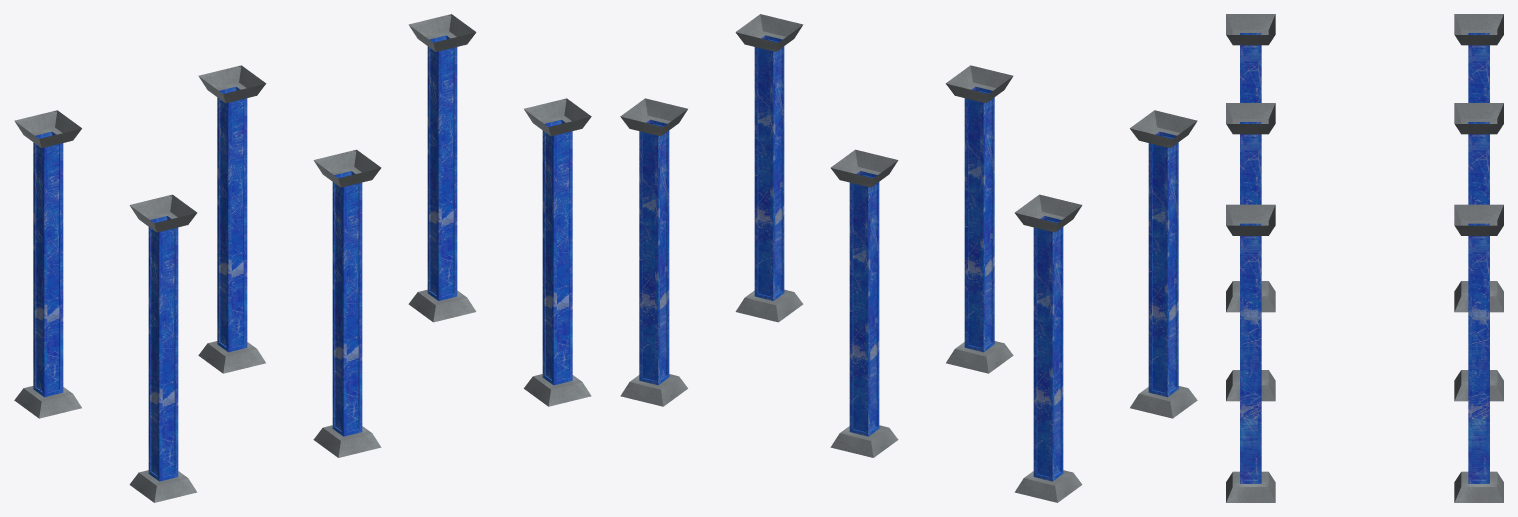
Rendered from SteelBeams.fbx.
3 views of the same model, side by side, from view 1: azimuth 30°, elevation 25°; view 2: azimuth 150°, elevation 25°; view 3: azimuth 270°, elevation 25° (orthographic).
Visible parts, largest first — view 1: SteelBeams.006, SteelBeams.011, SteelBeams.008, SteelBeams.009, SteelBeams.010, SteelBeams.007; view 2: SteelBeams.008, SteelBeams.009, SteelBeams.006, SteelBeams.007, SteelBeams.011, SteelBeams.010; view 3: SteelBeams.008, SteelBeams.011, SteelBeams.007, SteelBeams.010, SteelBeams.006, SteelBeams.009.
Boxes of the visible parts, x1,y1,x2,y2 form: SteelBeams.006: (14,110,81,418); SteelBeams.011: (524,98,591,406); SteelBeams.008: (408,14,476,322); SteelBeams.009: (129,194,197,502); SteelBeams.010: (313,149,381,457); SteelBeams.007: (198,65,266,373); SteelBeams.008: (620,98,687,406); SteelBeams.009: (1130,110,1197,418); SteelBeams.006: (1014,194,1082,502); SteelBeams.007: (830,149,898,457); SteelBeams.011: (735,14,803,322); SteelBeams.010: (945,65,1013,373); SteelBeams.008: (1454,204,1503,502); SteelBeams.011: (1226,204,1275,502); SteelBeams.007: (1454,103,1503,401); SteelBeams.010: (1226,103,1275,401); SteelBeams.006: (1454,14,1503,312); SteelBeams.009: (1226,14,1275,312).
Bounding box in the file's own units: 1391 × 850 × 772.
